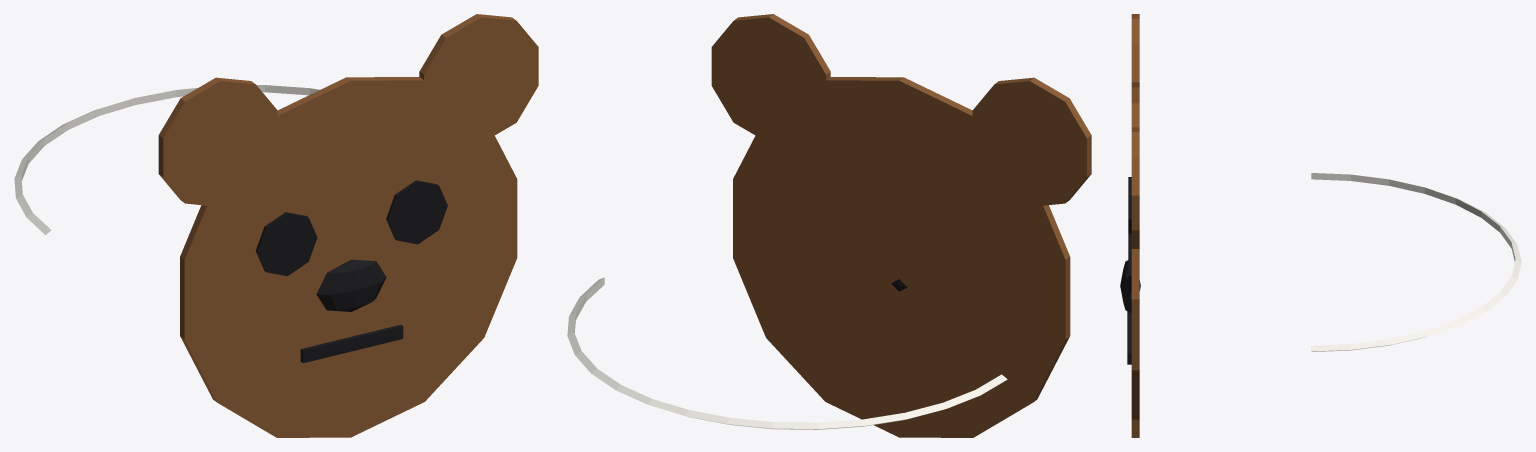
File: bank_mask_oso.glb
3 views of the same model, side by side, from view 1: azimuth 30°, elevation 25°; view 2: azimuth 150°, elevation 25°; view 3: azimuth 270°, elevation 25° (orthographic). The views are drawn at different scales.
Visible parts, largest first — view 1: card_card_oso, card_card_ink, elastic_card_elastic; view 2: card_card_oso, elastic_card_elastic; view 3: card_card_oso, elastic_card_elastic, card_card_ink.
Boxes of the visible parts, x1,y1,x2,y2 form: card_card_oso: [158, 14, 538, 437]; card_card_ink: [255, 180, 447, 363]; elastic_card_elastic: [14, 85, 319, 234]; card_card_oso: [711, 14, 1091, 437]; elastic_card_elastic: [567, 277, 1007, 429]; card_card_oso: [1131, 14, 1139, 437]; elastic_card_elastic: [1311, 173, 1521, 351]; card_card_ink: [1120, 177, 1140, 364].
Bounding box in the file's own units: 0.408 × 0.37 × 0.389.
